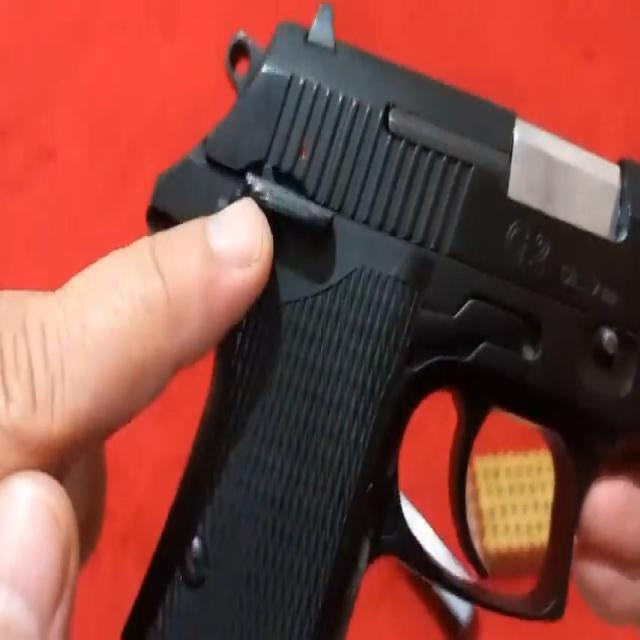handgun: (135, 8, 640, 632)
